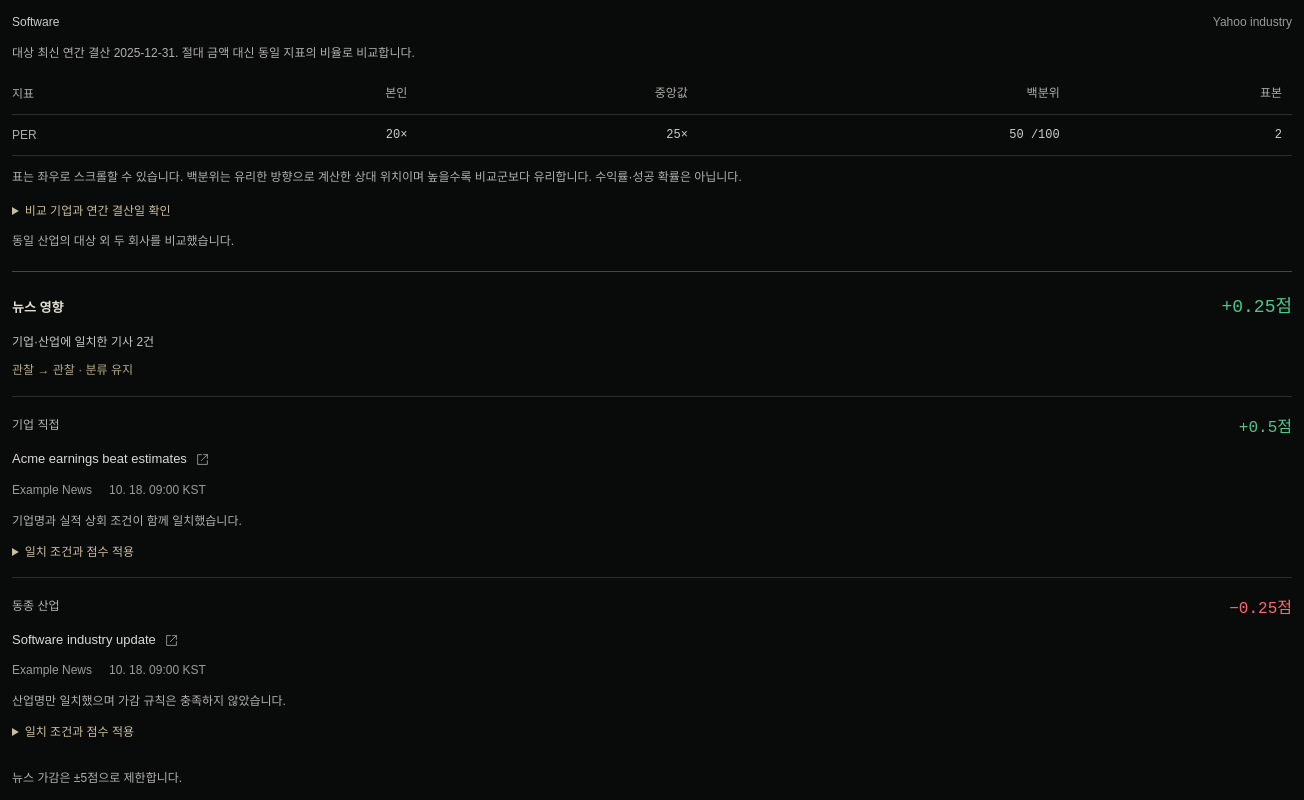
Test: reproducible scoring explanations › preserves quarter-point news effects in totals, contributions and raw rule values
(page scrolled)
Expected: the text "−0.25점" is shown, 1229,594 -> 1292,618
Click the heading "일치 조건과 점수 적용" below "동종 산업". click: (79, 732)
box: 25,726 -> 134,740
(page scrolled)
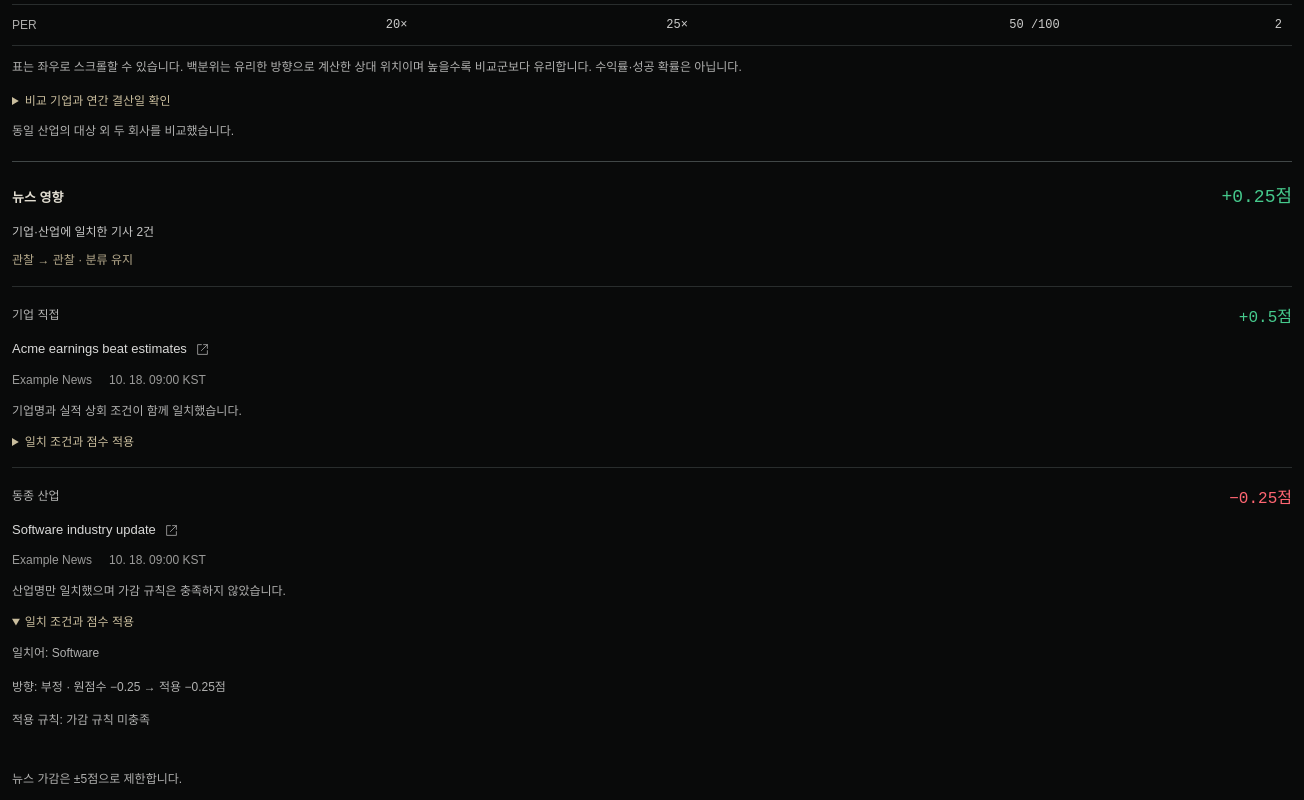
Expected: the text "방향: 부정 · 원점수 −0.25 → 적용 −0.25점" is shown, 12,680 -> 226,694
